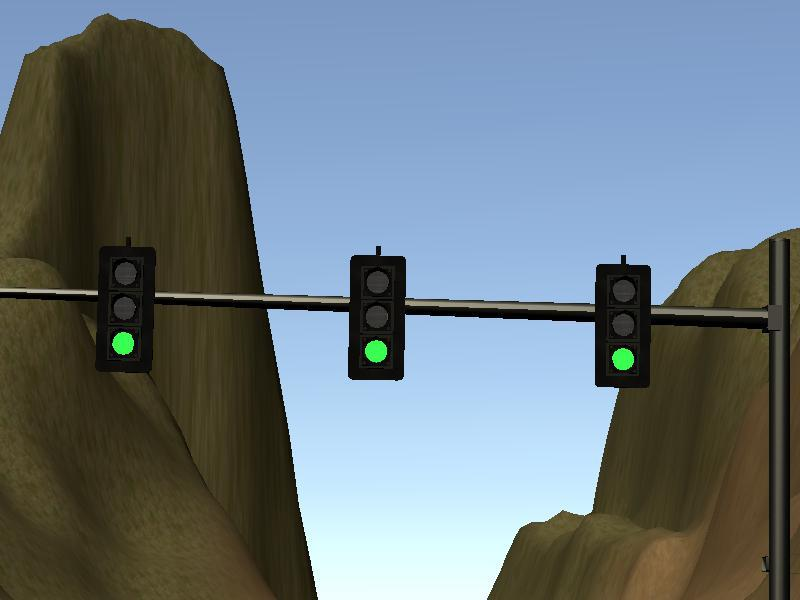Green: (349, 255, 403, 380), (98, 247, 151, 368), (596, 264, 648, 384)
